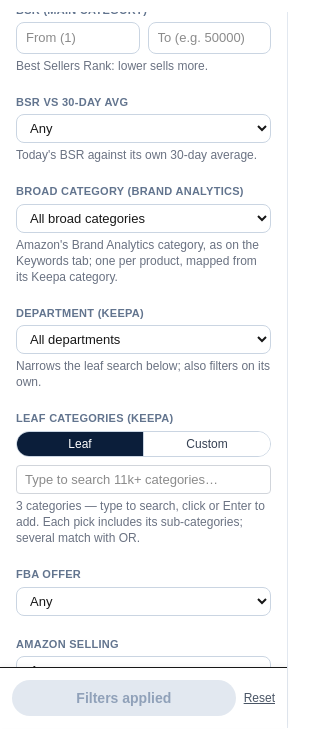
Scenario: ProductFilterPanel categories (spec 2026-10-12 §5.1) › narrows on the separator: the department's own path is in, a department that only shares its prefix is out
(page scrolled)
Select "Toys" in the dropdown labelled "Department (Keepa)" at (144, 340), box top-left (16, 325), bottom-right (271, 354)
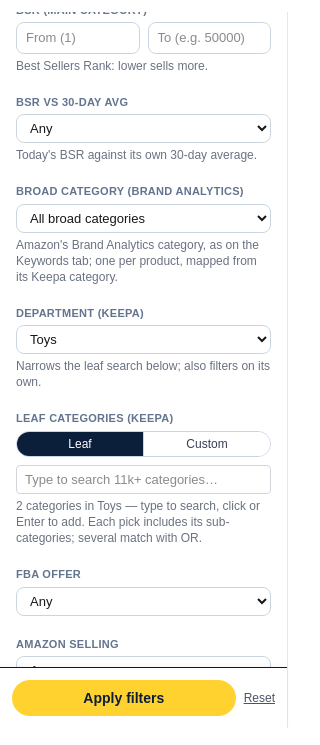
Expected: the text "2 categories in Toys — type to search" is shown, top-left (16, 498), bottom-right (271, 546)
